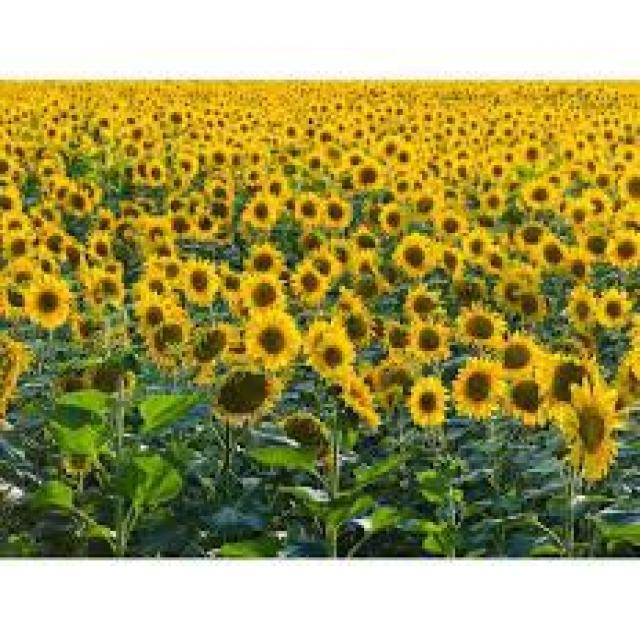sunflower: (540, 372, 620, 481), (214, 355, 277, 432), (450, 357, 504, 419), (248, 305, 295, 370), (313, 328, 363, 387), (505, 370, 552, 432), (29, 274, 76, 334), (139, 317, 192, 367), (457, 299, 509, 346), (239, 193, 291, 240), (498, 326, 545, 373), (182, 256, 221, 310), (245, 266, 287, 316), (190, 320, 234, 367), (291, 261, 332, 311), (598, 282, 632, 338), (522, 166, 554, 216), (397, 234, 433, 278), (411, 380, 444, 428), (342, 161, 386, 193), (538, 238, 571, 278), (294, 186, 322, 230), (375, 205, 408, 240), (321, 197, 353, 231), (416, 320, 442, 358)
